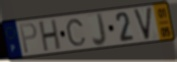2: (115, 12, 136, 43)
C: (65, 18, 87, 48)
H: (38, 18, 62, 54)
J: (91, 12, 108, 48)
P: (18, 22, 38, 56)
V: (132, 6, 153, 42)
